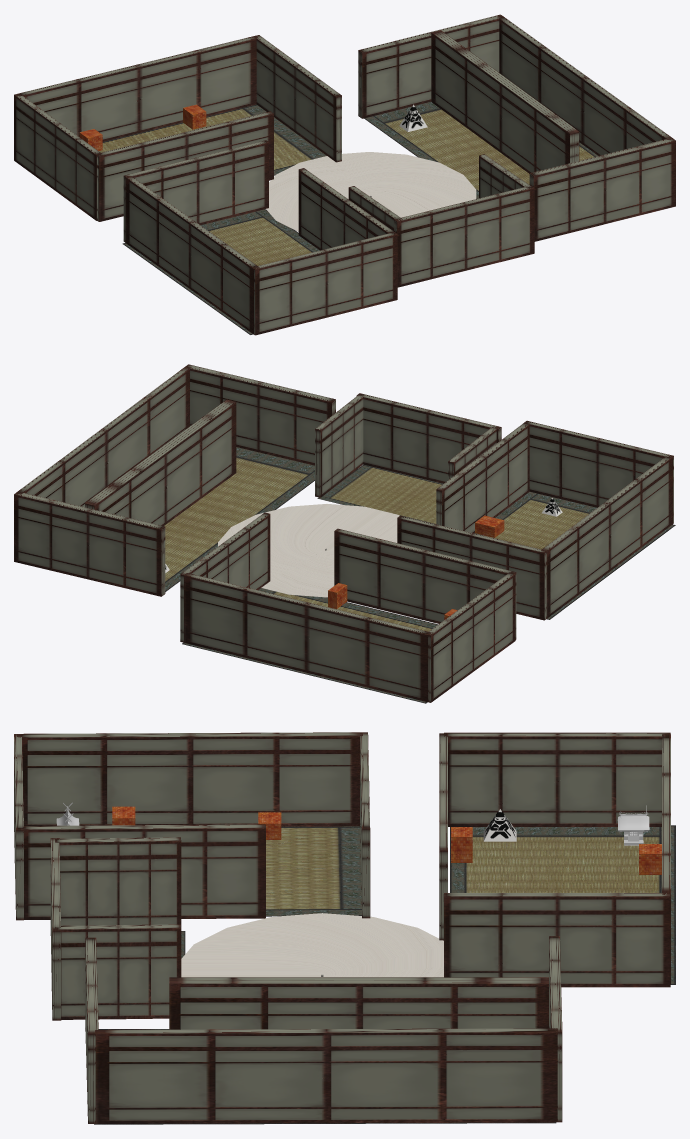
File: Stage2.fbx
The picture shows the model from 3 angles, top to bottom: view 1: azimuth 30°, elevation 25°; view 2: azimuth 150°, elevation 25°; view 3: azimuth 270°, elevation 25°; orthographic projection. The views are drawn at different scales.
Visible parts, largest first — view 1: Box (×19), kaitenyuka; view 2: Box (×20), kaitenyuka; view 3: Box (×22), kaitenyuka.
Boxes of the visible parts, bbox=[...] form: Box (×19): bbox=[14, 14, 675, 335]; kaitenyuka: bbox=[266, 152, 476, 231]; Box (×20): bbox=[14, 364, 675, 703]; kaitenyuka: bbox=[218, 504, 399, 597]; Box (×22): bbox=[14, 732, 675, 1124]; kaitenyuka: bbox=[181, 913, 443, 977].
Size of the model in its own units: 1890 by 278 by 1738.
